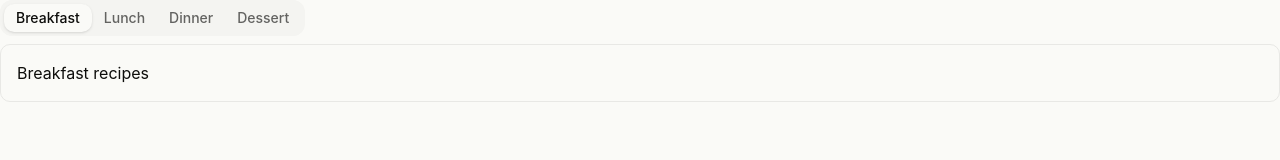
Test: Tabs Components › Recipe App Use Cases › renders meal category tabs correctly
The width and height of the screenshot is (1280, 160).
expect the text "Breakfast recipes" is shown: met, box [0,44,1279,102]
What coordinates should you click on to do the following:
click the tab "Dinner"
I would click on:
 (191, 18)
Its box is [157,4,225,32].
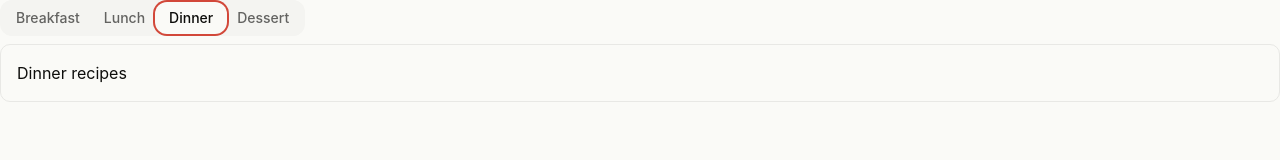
expect the text "Dinner recipes" is shown: met, box [0,44,1279,102]
expect the text "Breakfast recipes" is gone: met
